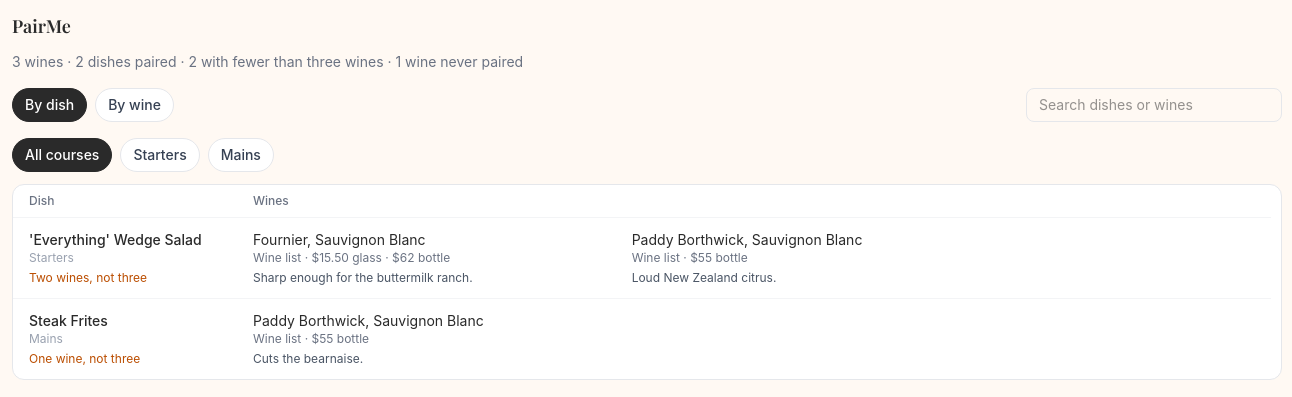
Test case: PairmeSection › search finds a dish by the producer of a wine it is paired with
Type "fournier" into the search field named "Search pairings" at (1154, 105), box [1026, 88, 1282, 122]
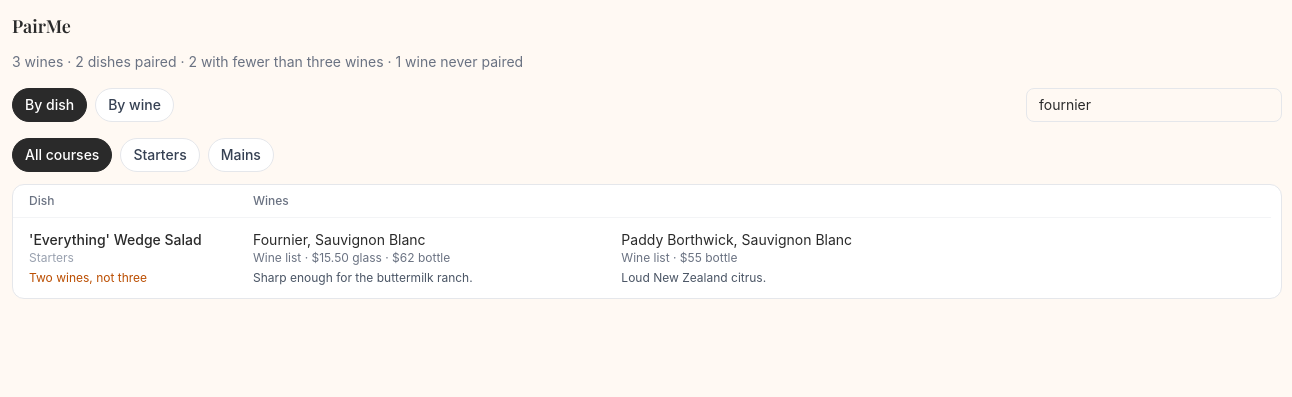
expect the row with test id "pairme-dish" shows "Wedge Salad": met, box [29, 231, 202, 248]
expect the number of rows with test id "pairme-dish" is 1: met, box [13, 218, 1271, 298]
